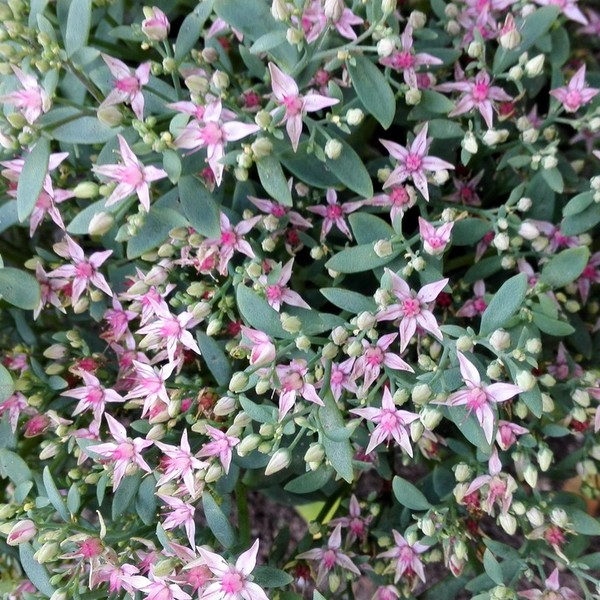obstacle: (63, 64, 562, 542)
